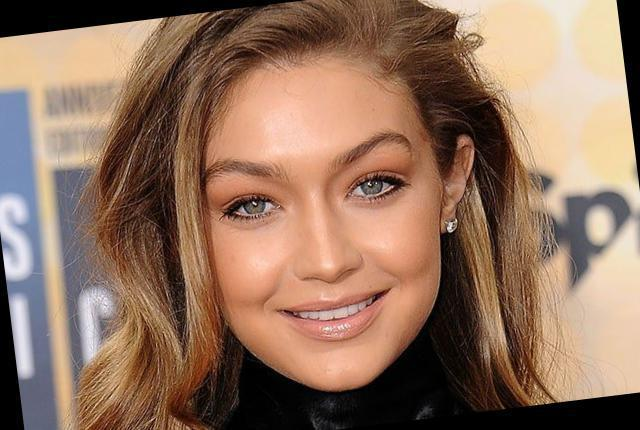Sober: (214, 80, 432, 369)
